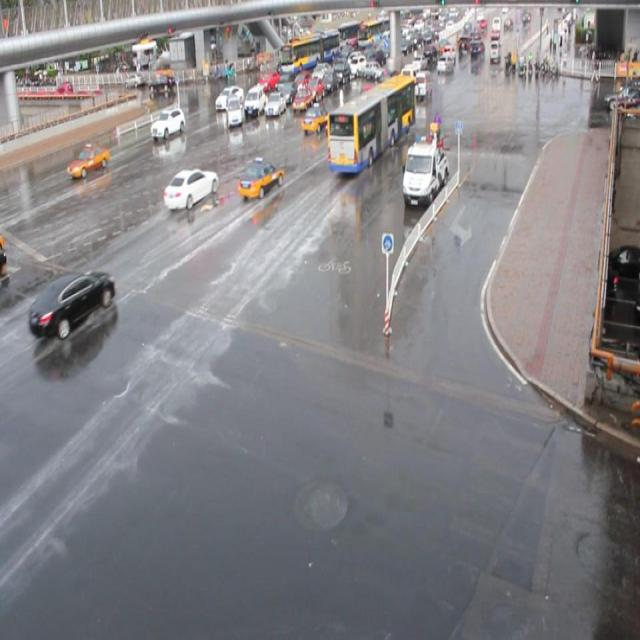bus: (402, 138, 449, 206)
car: (31, 266, 115, 338), (163, 167, 219, 209), (238, 157, 284, 199), (66, 142, 110, 178), (150, 105, 186, 138), (300, 101, 333, 132), (343, 90, 368, 122), (215, 84, 244, 110), (324, 106, 348, 137), (359, 81, 382, 111), (291, 88, 313, 114), (265, 92, 287, 118), (305, 77, 324, 102), (279, 80, 298, 104), (291, 72, 311, 94)
truck: (246, 86, 268, 117), (225, 94, 244, 128), (413, 69, 432, 99)
van: (326, 74, 415, 174)
